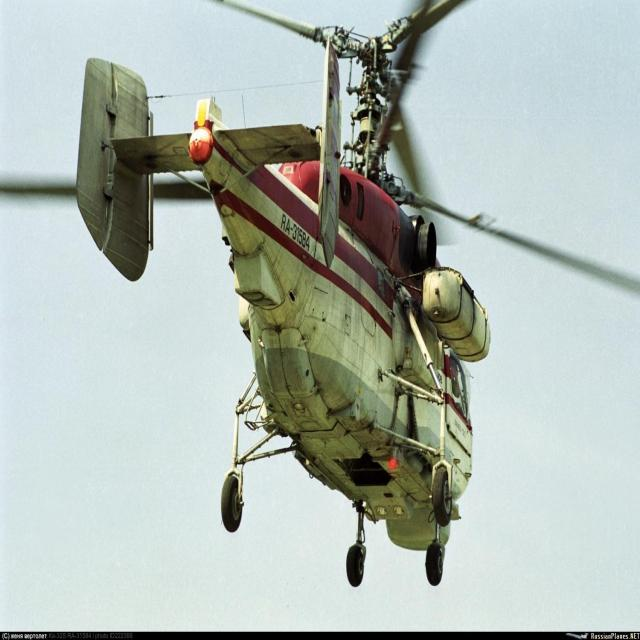MIL_HELO: (45, 0, 640, 586)
